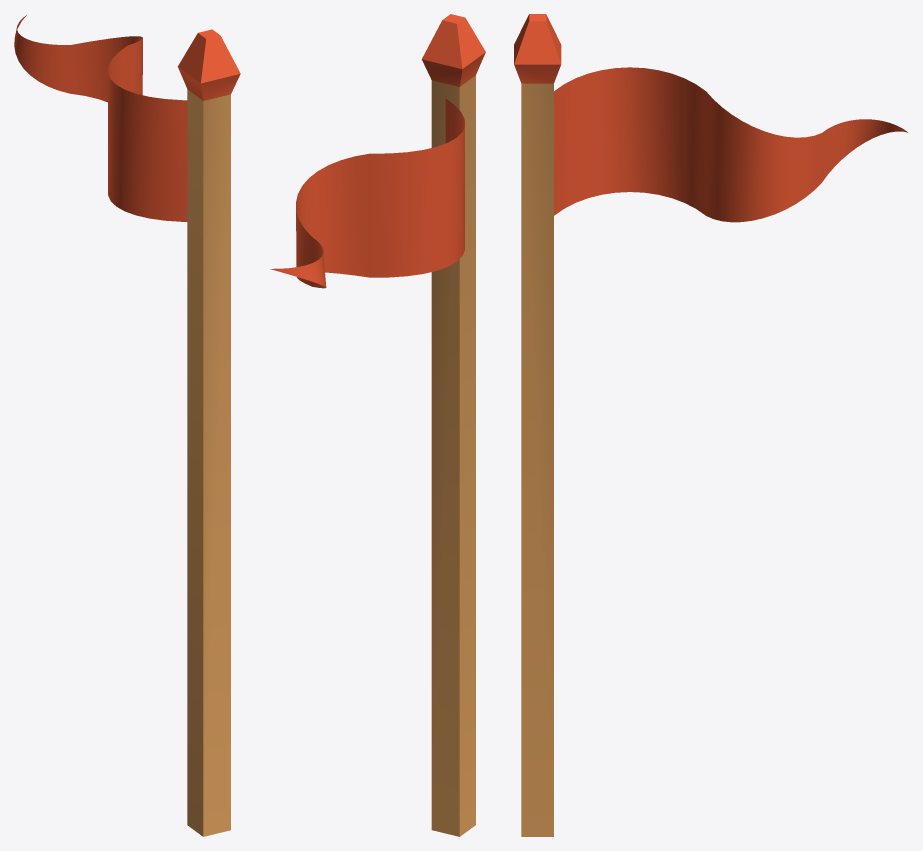
The model's file is fahne.fbx.
The picture shows the model from 3 angles, left to right: view 1: azimuth 30°, elevation 25°; view 2: azimuth 150°, elevation 25°; view 3: azimuth 270°, elevation 25°; orthographic projection. The views are drawn at different scales.
Parts seen in each view (by area): view 1: flag_6; view 2: flag_6; view 3: flag_6.
Boxes of the visible parts, bbox=[...] form: flag_6: bbox=[14, 15, 240, 836]; flag_6: bbox=[270, 14, 485, 836]; flag_6: bbox=[514, 14, 907, 836].
Bounding box in the file's own units: 0.8991 × 7.92 × 3.49.
